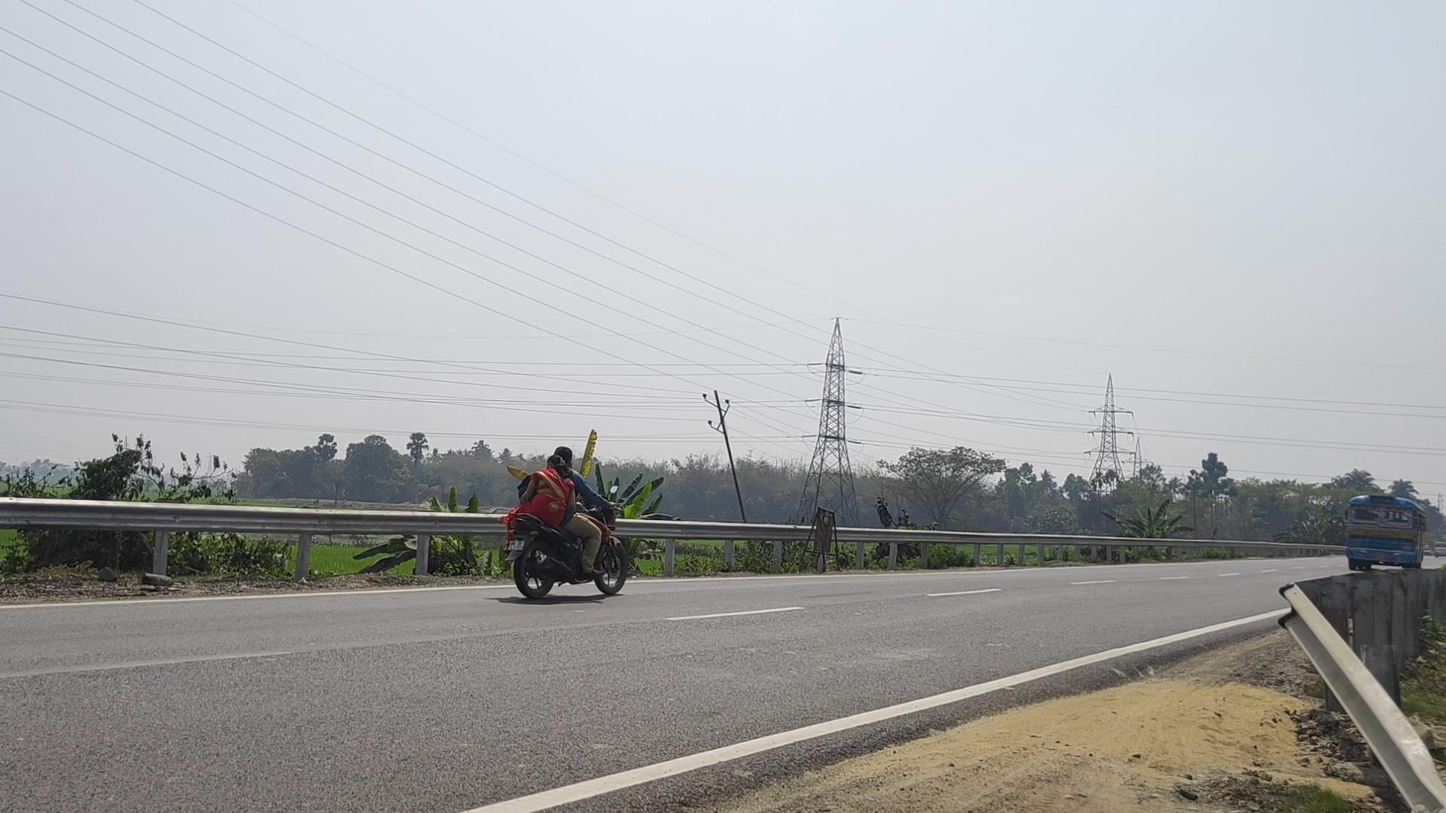Bus: (1346, 494, 1426, 573)
bike: (504, 446, 628, 601)
